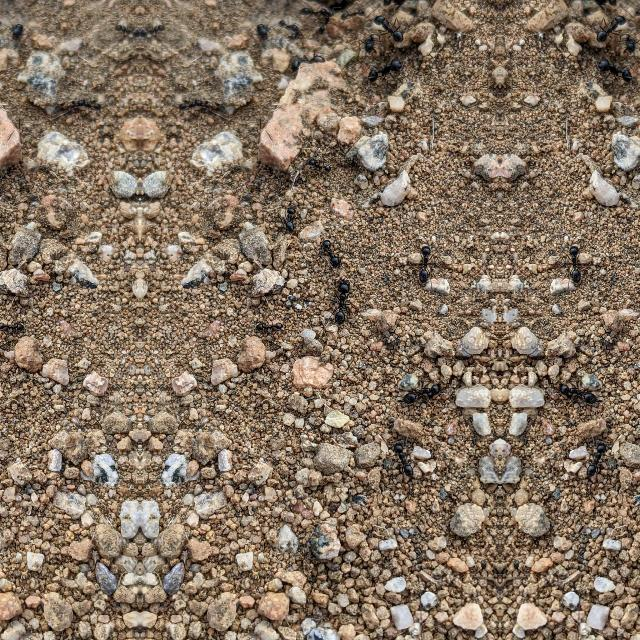Messor: (317, 272, 361, 324), (362, 14, 416, 48), (584, 14, 638, 48), (281, 38, 329, 76), (406, 245, 442, 282), (558, 245, 594, 282), (401, 376, 443, 406), (557, 376, 599, 406), (393, 438, 421, 482), (579, 438, 607, 482), (362, 56, 398, 84), (602, 56, 638, 84), (278, 205, 310, 233), (304, 156, 341, 178), (280, 17, 308, 45), (319, 240, 345, 270), (302, 2, 328, 24), (358, 31, 384, 53), (616, 31, 640, 53), (256, 24, 268, 40), (12, 24, 24, 40)
